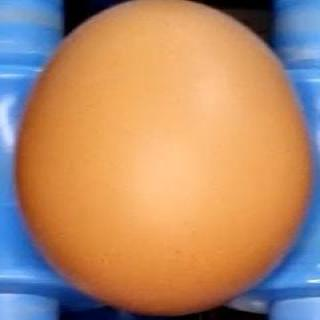Telur: (9, 3, 320, 317)
